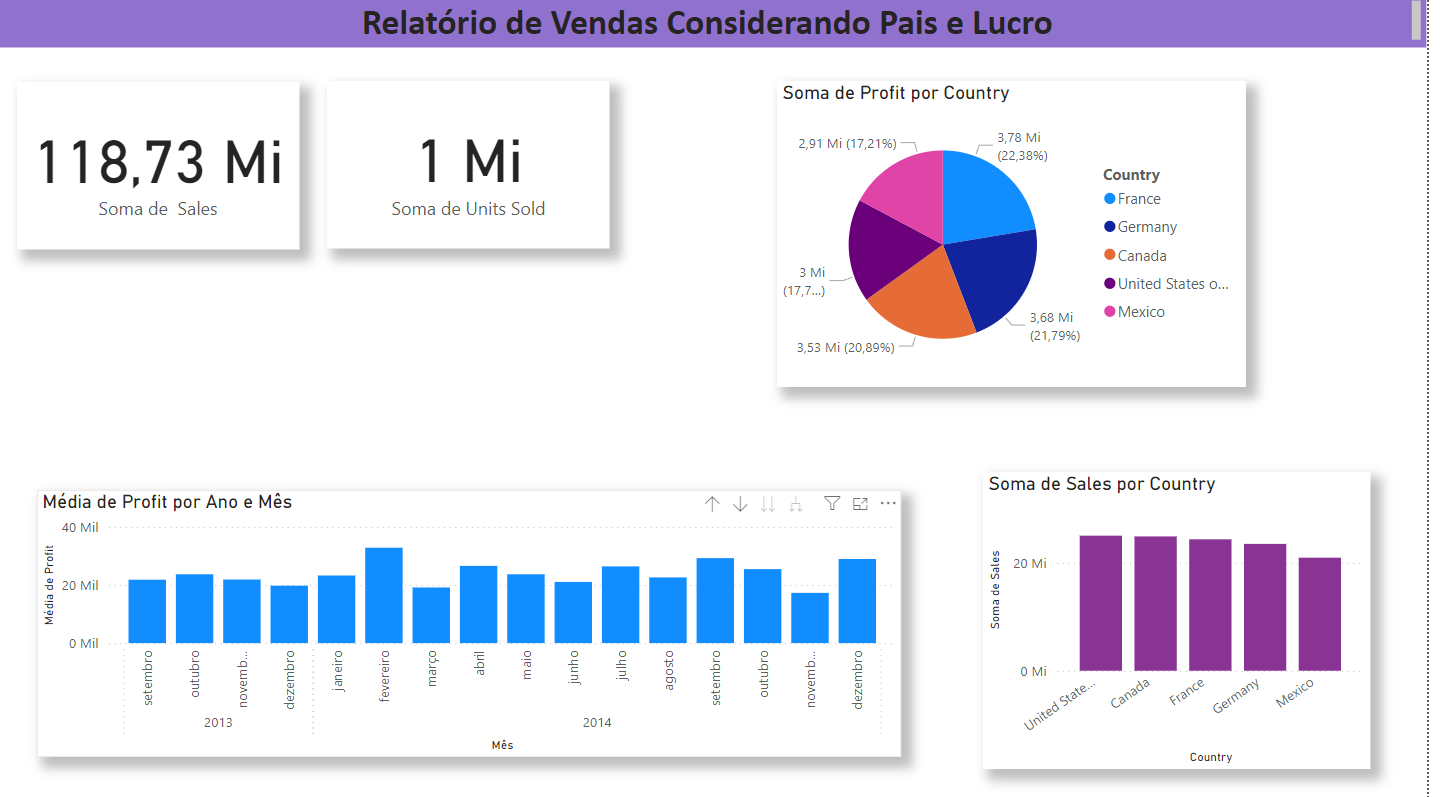

This screenshot's page, from the dashboard's own definition file:
{"tool":"powerbi","page":{"name":"Página 2","canvas":[1280,720],"ordinal":1},"visuals":[{"type":"textbox","box":[0,0,1280,46.7],"z":0},{"type":"card","fields":{"Values":["Sum(financials. Sales)"]},"box":[17.9,77.9,252.5,149.6],"z":1000},{"type":"card","fields":{"Values":["Sum(financials.Units Sold)"]},"box":[295.5,77,253.4,150.4],"z":2000},{"type":"pieChart","fields":{"Category":["financials.Country"],"Y":["Sum(financials.Profit)"]},"box":[698.5,77,420,274],"z":3000},{"type":"clusteredColumnChart","fields":{"Y":["Avg(financials.Profit)"],"Category":["financials.Date.Variation.Hierarquia de datas.Ano","financials.Date.Variation.Hierarquia de datas.Mês"]},"box":[35.8,443.3,773.7,239.1],"z":4000},{"type":"clusteredColumnChart","fields":{"Category":["financials.Country"],"Y":["Sum(financials. Sales)"]},"box":[883,427.2,346.6,266],"z":5000}]}

Visuals, with their boxes in screenshot pixels (x1, y1, x2, y2), scaled from the page's 1280x720 canvas onto the 1449x797 screenshot:
textbox: box(0, 0, 1448, 52)
card - Sum(financials. Sales): box(20, 86, 306, 252)
card - Sum(financials.Units Sold): box(335, 85, 621, 252)
pieChart - financials.Country x Sum(financials.Profit): box(791, 85, 1266, 389)
clusteredColumnChart - Avg(financials.Profit) x financials.Date.Variation.Hierarquia de datas.Ano: box(41, 491, 916, 755)
clusteredColumnChart - financials.Country x Sum(financials. Sales): box(1000, 473, 1392, 767)
